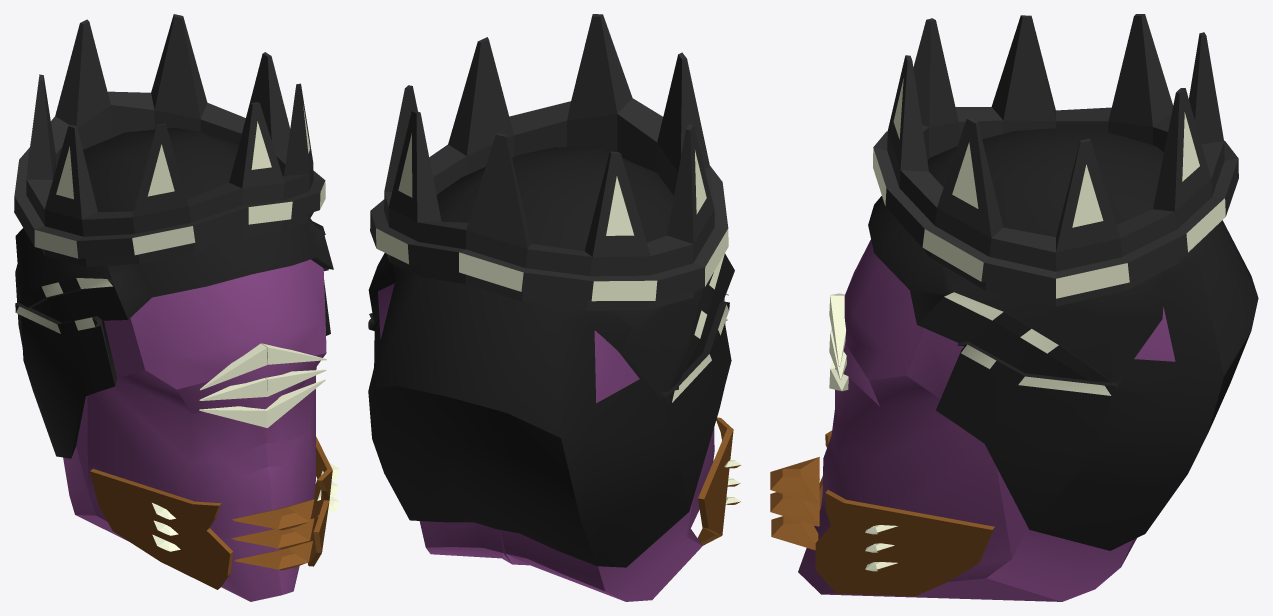
Rendered from primobot.gltf.
The picture shows the model from 3 angles, left to right: view 1: azimuth 30°, elevation 25°; view 2: azimuth 150°, elevation 25°; view 3: azimuth 270°, elevation 25°; orthographic projection. The views are drawn at different scales.
Visible parts, largest first — view 1: Headeyes_6033, Circle007, Plane381, Plane069, Cube029, Circle007_1, Plane381_1, Plane069_1; view 2: Plane381, Circle007, Headeyes_6033, Circle007_1, Plane069, Plane381_1; view 3: Plane381, Circle007, Headeyes_6033, Plane069, Circle007_1, Plane381_1, Cube029.
Boxes of the visible parts, x1,y1,x2,y2 form: Headeyes_6033: (63, 259, 326, 601); Circle007: (14, 14, 325, 267); Plane381: (15, 127, 333, 458); Plane069: (90, 436, 332, 589); Cube029: (199, 343, 326, 427); Circle007_1: (30, 103, 325, 258); Plane381_1: (16, 278, 112, 333); Plane069_1: (152, 462, 339, 551); Plane381: (368, 147, 734, 567); Circle007: (370, 14, 728, 310); Headeyes_6033: (378, 283, 725, 601); Circle007_1: (376, 133, 728, 301); Plane069: (697, 417, 740, 545); Plane381_1: (672, 254, 728, 402); Plane381: (868, 128, 1258, 550); Circle007: (873, 14, 1238, 306); Headeyes_6033: (798, 239, 1175, 601); Plane069: (770, 430, 994, 596); Circle007_1: (873, 78, 1225, 298); Plane381_1: (944, 292, 1111, 395); Cube029: (829, 293, 848, 391).
Bounding box in the file's own units: 0.1769 × 0.2875 × 0.237.
